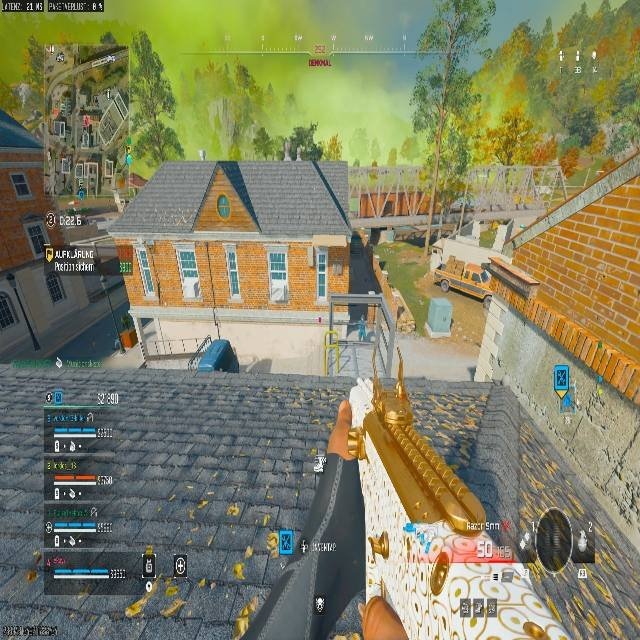player: (357, 314, 366, 340)
